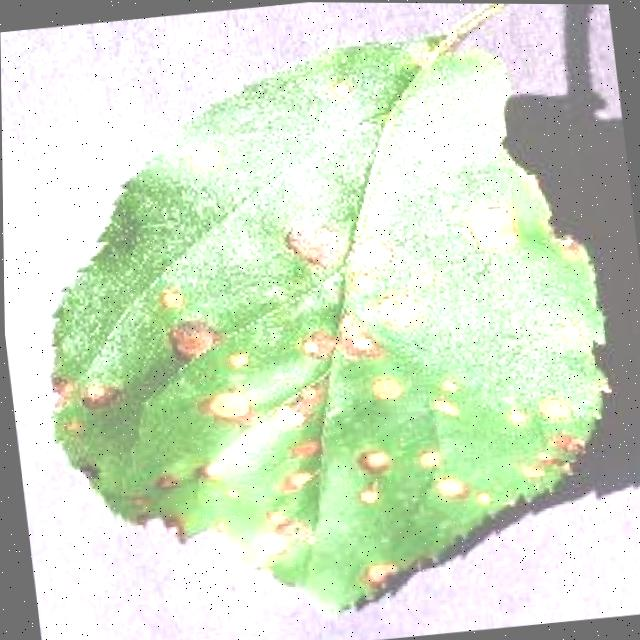black_rot: (287, 282, 432, 370), (285, 200, 360, 283), (252, 494, 332, 565), (157, 304, 236, 375), (266, 366, 337, 439), (464, 186, 527, 266), (142, 451, 232, 503), (198, 374, 262, 440), (363, 365, 417, 420), (76, 365, 127, 423), (145, 271, 202, 321), (355, 222, 404, 277), (355, 550, 413, 594), (429, 466, 483, 509), (279, 428, 332, 470), (349, 441, 398, 482), (271, 464, 324, 500), (534, 389, 576, 431)
